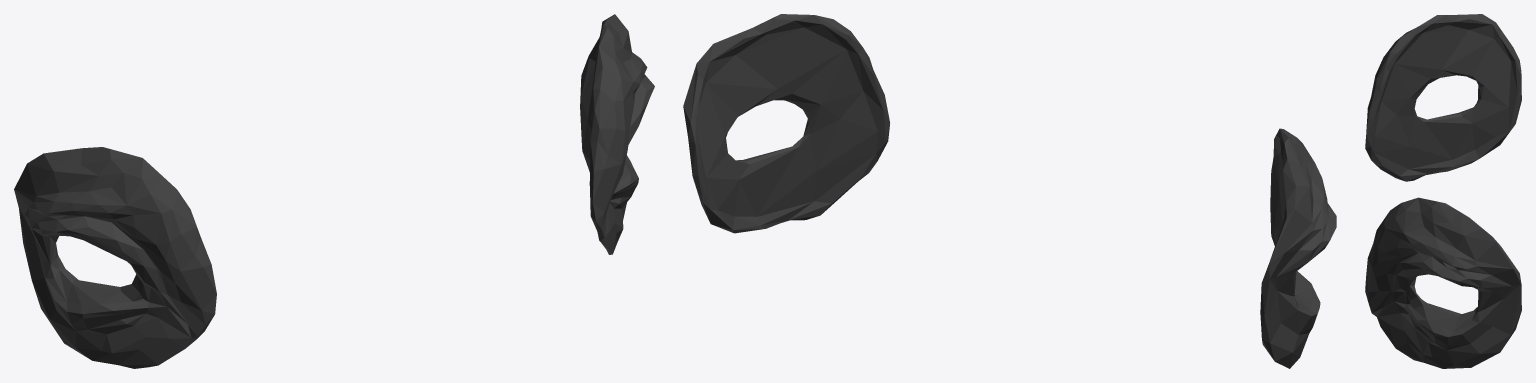
The model's file is details_periocular_skin_eyehole.glb.
The picture shows the model from 3 angles, left to right: view 1: azimuth 30°, elevation 25°; view 2: azimuth 150°, elevation 25°; view 3: azimuth 270°, elevation 25°; orthographic projection. The views are drawn at different scales.
Parts seen in each view (by area): view 1: details_periocular_skin_eyehole; view 2: details_periocular_skin_eyehole; view 3: details_periocular_skin_eyehole.
Boxes of the visible parts, <box> form: details_periocular_skin_eyehole: <box>14,14,654,368</box>; details_periocular_skin_eyehole: <box>683,14,1336,368</box>; details_periocular_skin_eyehole: <box>1365,14,1521,368</box>.
Bounding box in the file's own units: 0.00373 × 0.00124 × 0.00108.
1 material, 1 textured.
